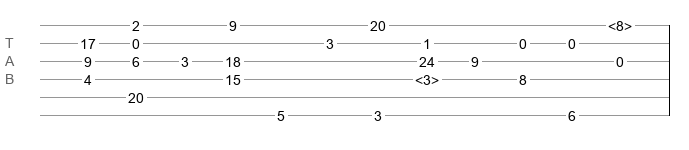0: (132, 36, 140, 46), (519, 36, 527, 46), (568, 36, 576, 46), (616, 54, 624, 64)
1: (423, 36, 431, 46)
15: (225, 72, 241, 82)
17: (80, 36, 96, 46)
18: (225, 54, 241, 64)
2: (132, 18, 140, 28)
20: (128, 90, 144, 100), (370, 18, 386, 28)
24: (419, 54, 435, 64)
3: (181, 54, 189, 64), (326, 36, 334, 46), (374, 108, 382, 118)
4: (84, 72, 92, 82)
5: (277, 108, 285, 118)
6: (132, 54, 140, 64), (568, 108, 576, 118)
8: (519, 72, 527, 82)
9: (84, 54, 92, 64), (229, 18, 237, 28), (471, 54, 479, 64)
harmonic: (415, 72, 439, 82), (608, 18, 632, 28)
